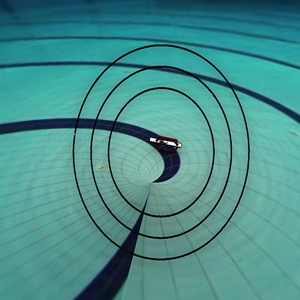circle: (63, 31, 263, 271)
submarine: (144, 125, 187, 164)
